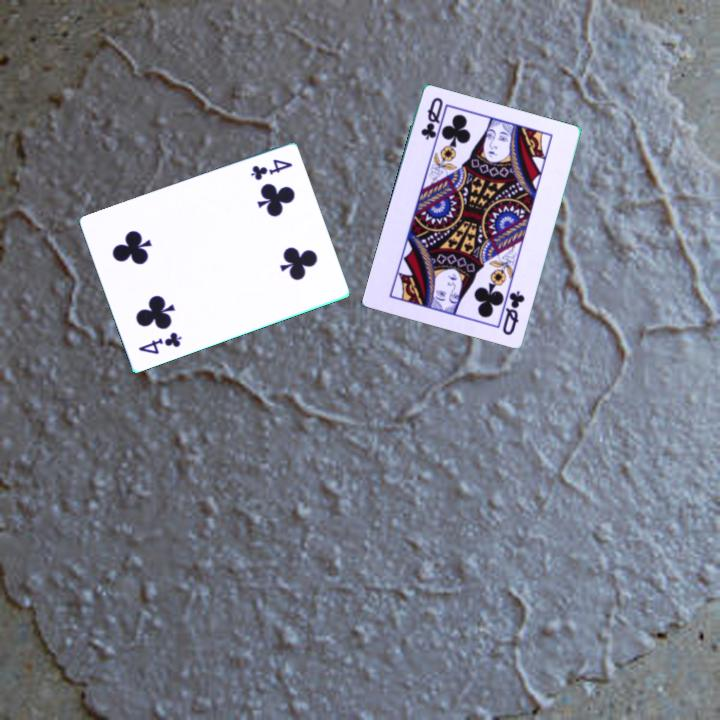4c: (135, 329, 184, 358), (247, 156, 295, 184)
Qc: (496, 283, 528, 339), (418, 94, 446, 143)
